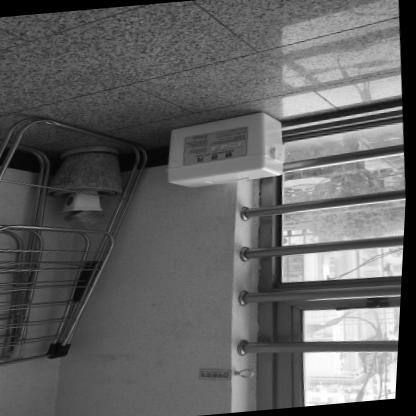DDL: (160, 110, 289, 190)
